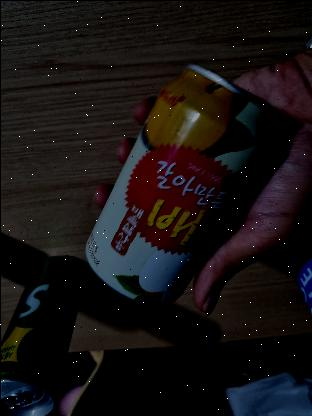Can: (84, 61, 292, 304)
